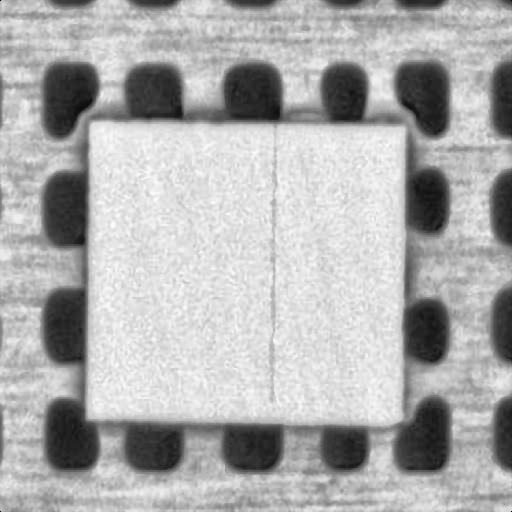DIE_CRACK: (264, 120, 274, 403)
